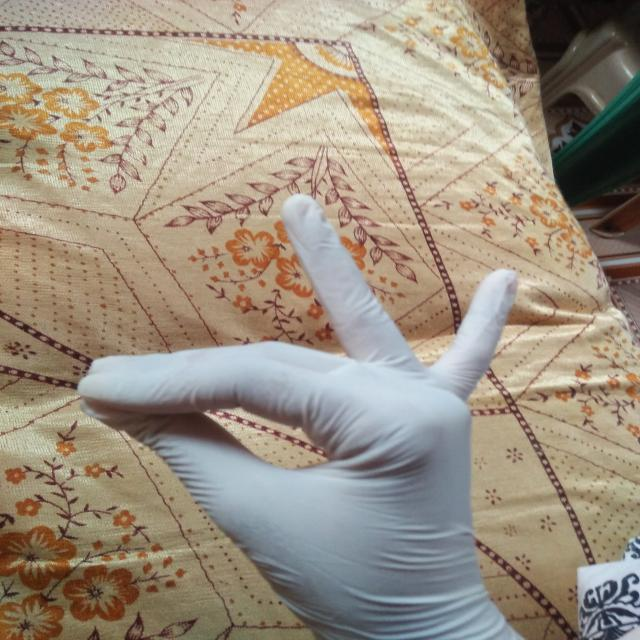Gloves: (55, 192, 590, 640)
